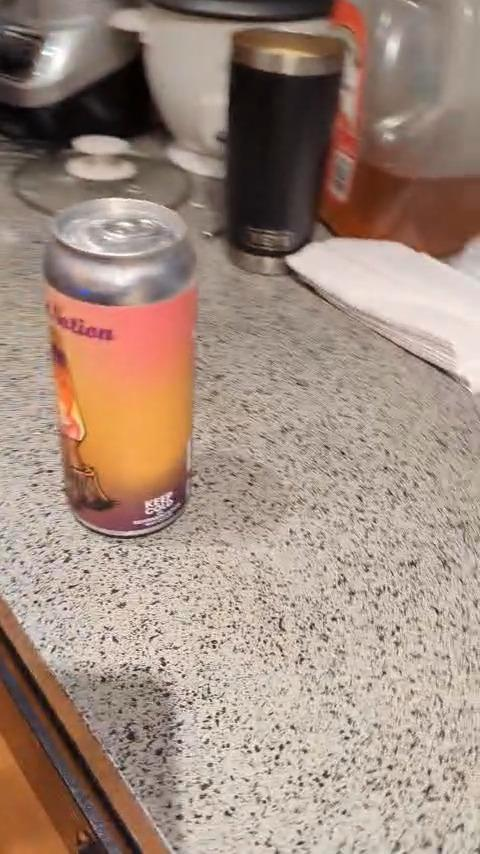metal: (43, 198, 197, 536)
